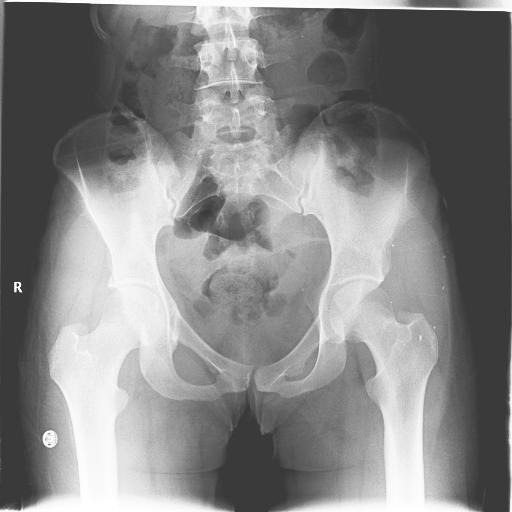normal: (48, 286, 166, 512), (329, 281, 439, 512)
